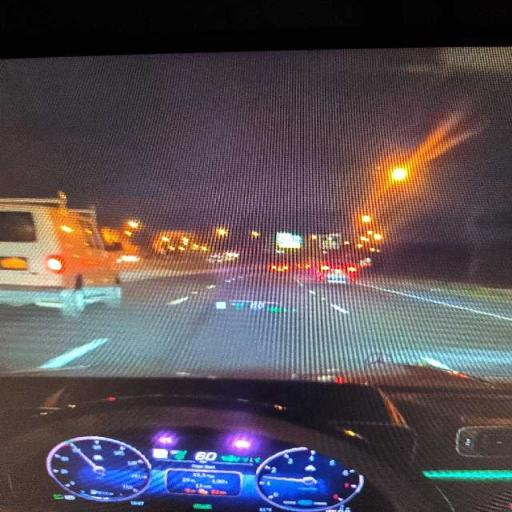car: (0, 199, 121, 316), (308, 262, 359, 283), (269, 263, 290, 273)
lane: (0, 268, 511, 377), (0, 273, 223, 371), (305, 281, 511, 378)
